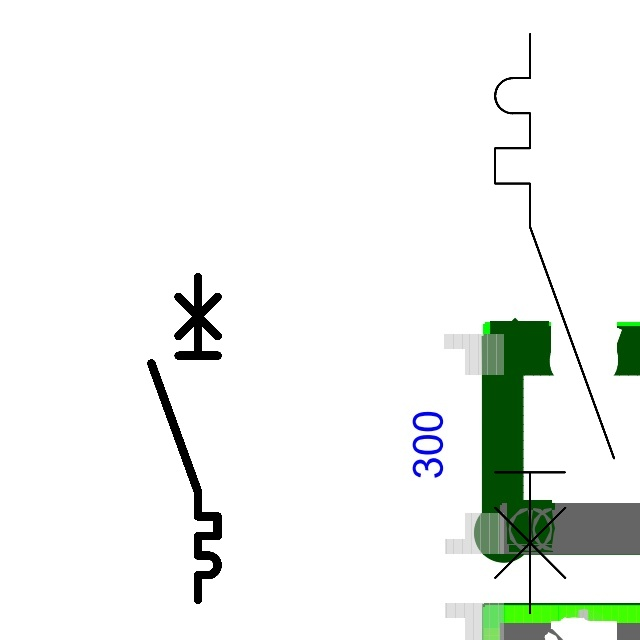interruptor_termomagnetico: (480, 19, 629, 628), (143, 269, 226, 608)
